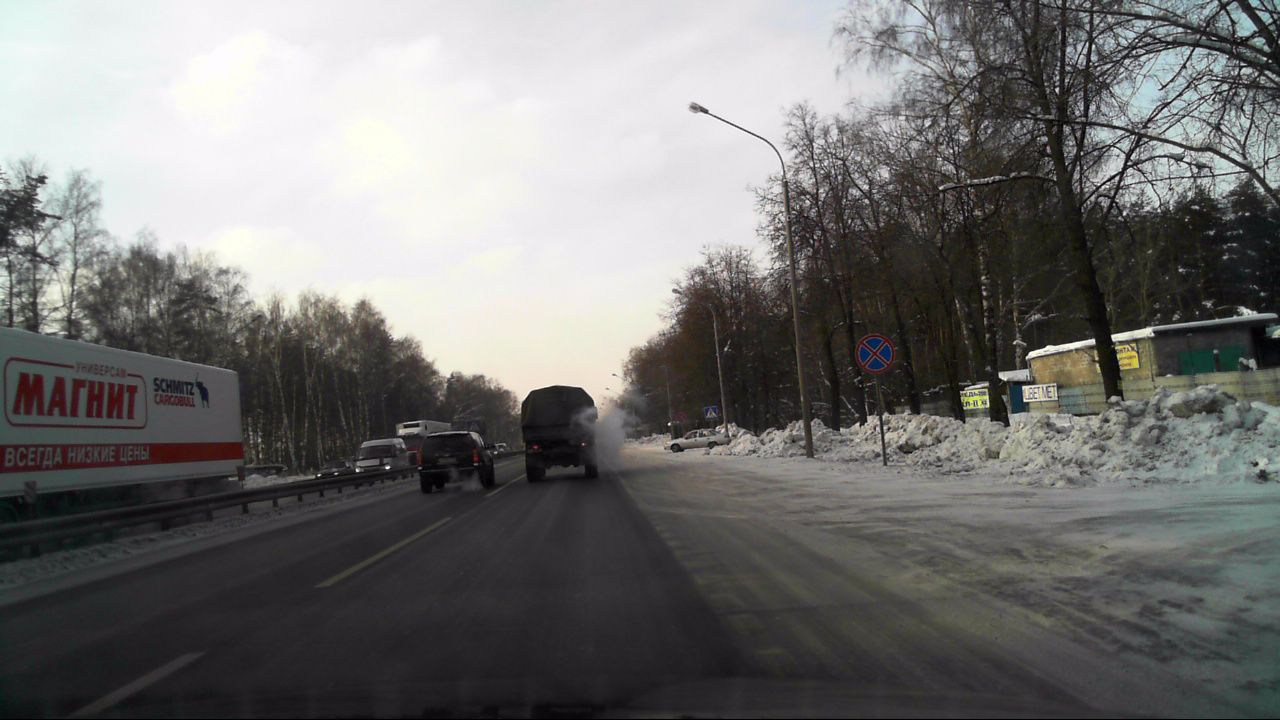No Parking: (854, 334, 893, 373)
